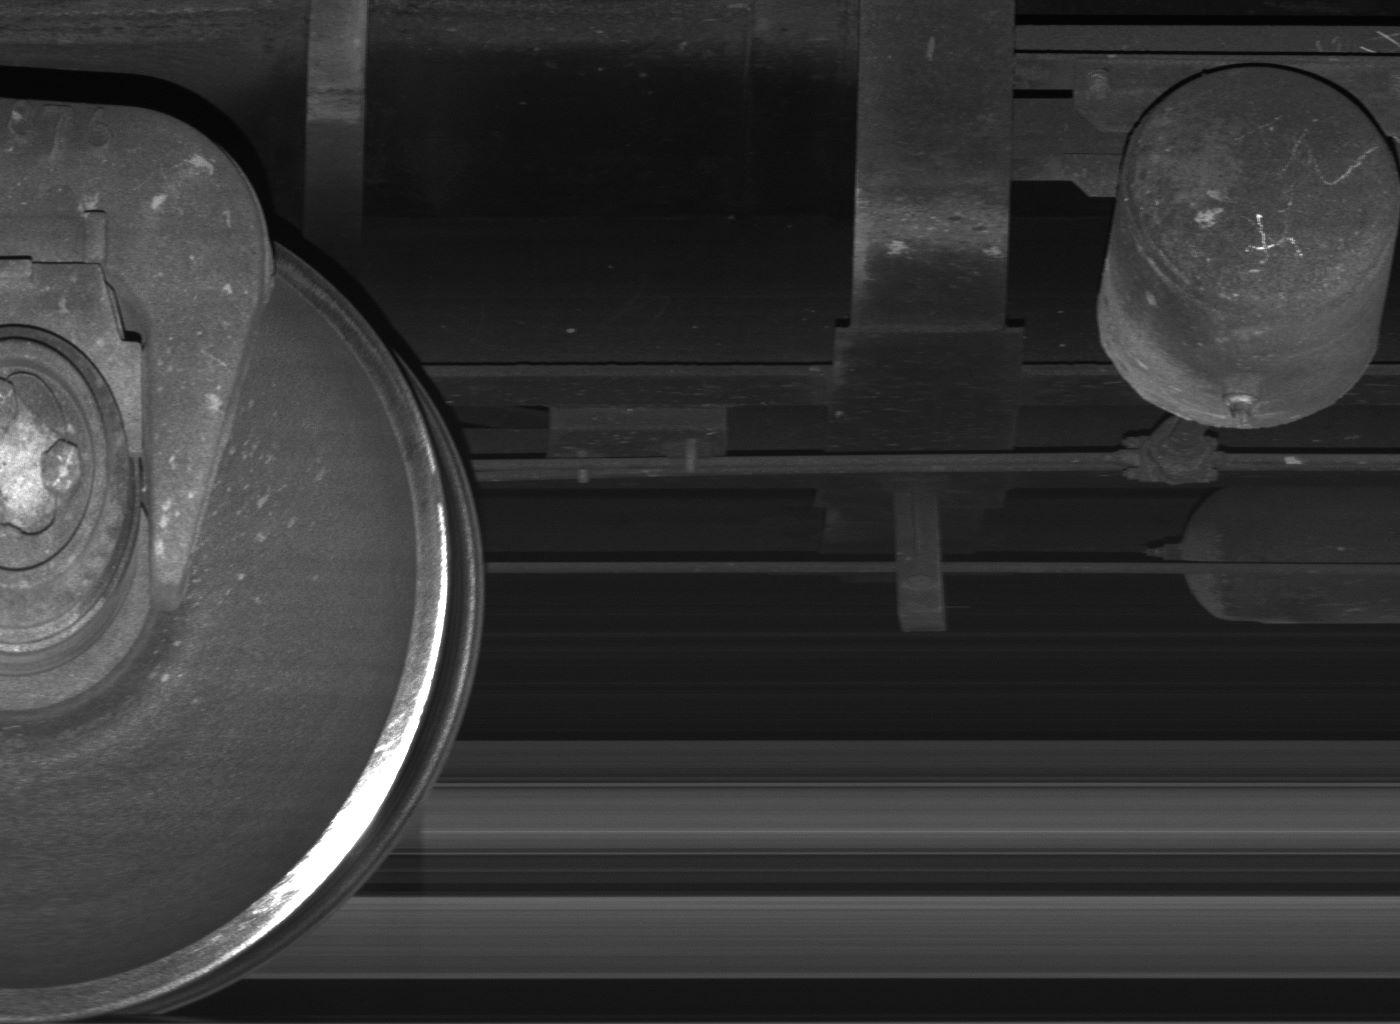normal: (897, 494, 949, 630)
